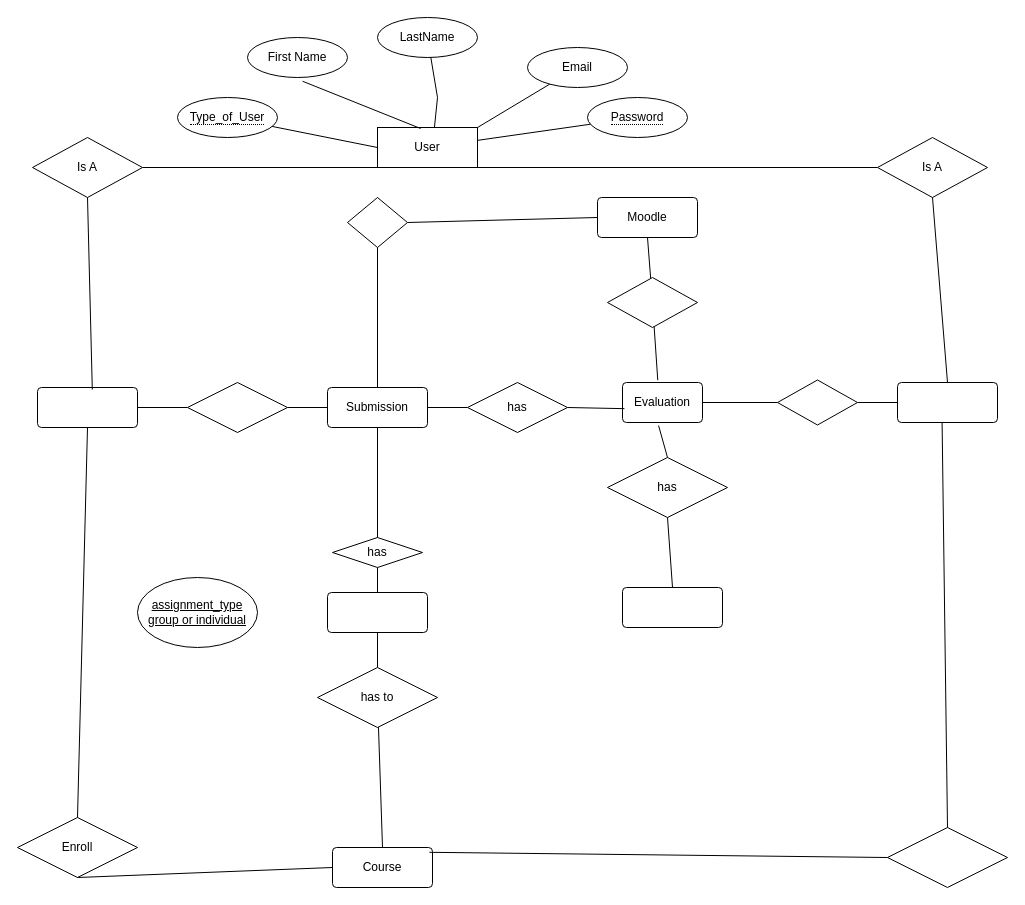
Some shapes in this 1025 by 905 pixel diagram are drawn without their labels. Each missing label, with the box of its shape:
Assignment: (326, 592, 428, 632)
evaluate: (776, 379, 858, 425)
extract: (346, 196, 408, 248)
File: (622, 586, 722, 628)
publish: (606, 276, 698, 328)
Student: (36, 386, 138, 428)
Submit: (186, 382, 288, 432)
Techer: (896, 382, 998, 422)
teches: (886, 826, 1008, 888)
